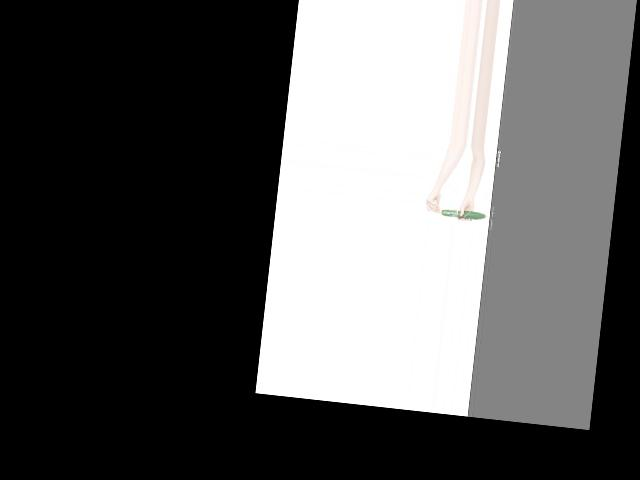cucumber: (441, 209, 487, 221)
